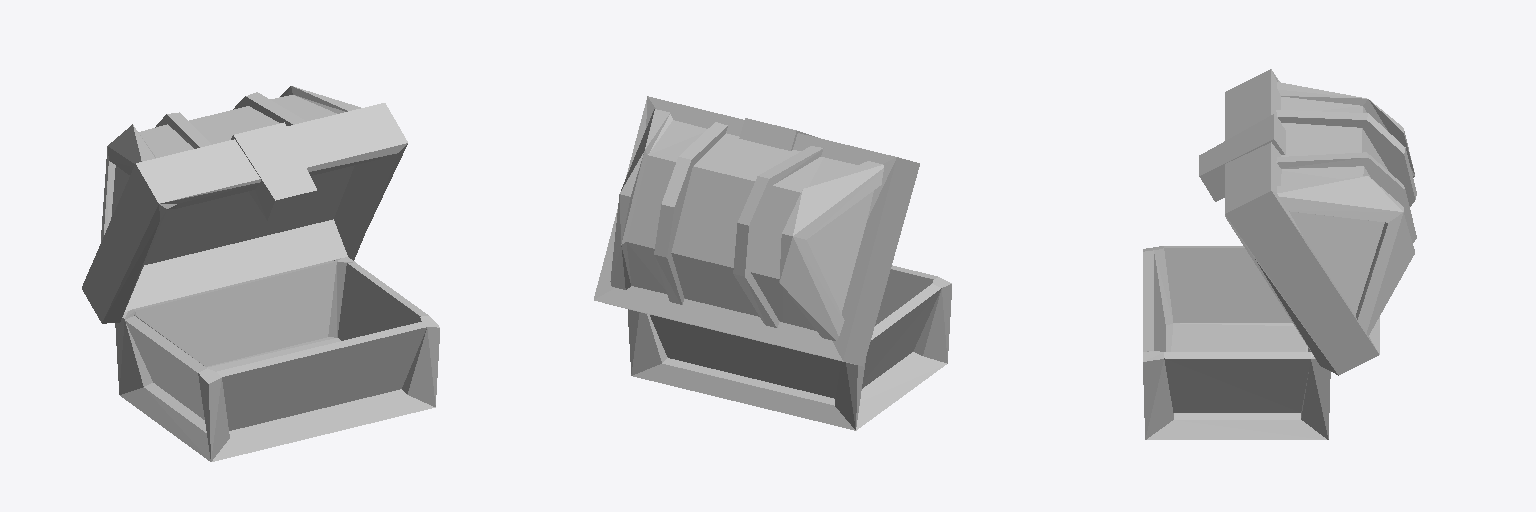
The model's file is open.obj.
The picture shows the model from 3 angles: view 1: azimuth 30°, elevation 25°; view 2: azimuth 150°, elevation 25°; view 3: azimuth 270°, elevation 25°; orthographic projection.
Parts seen in each view (by area): view 1: Box001.002; view 2: Box001.002; view 3: Box001.002.
Part boxes in pixels (x1,y1,x2,y2): Box001.002: (82,86,439,461); Box001.002: (594,96,951,430); Box001.002: (1143,69,1416,439).
Size of the model in its own units: 0.9539 by 0.9468 by 0.908.